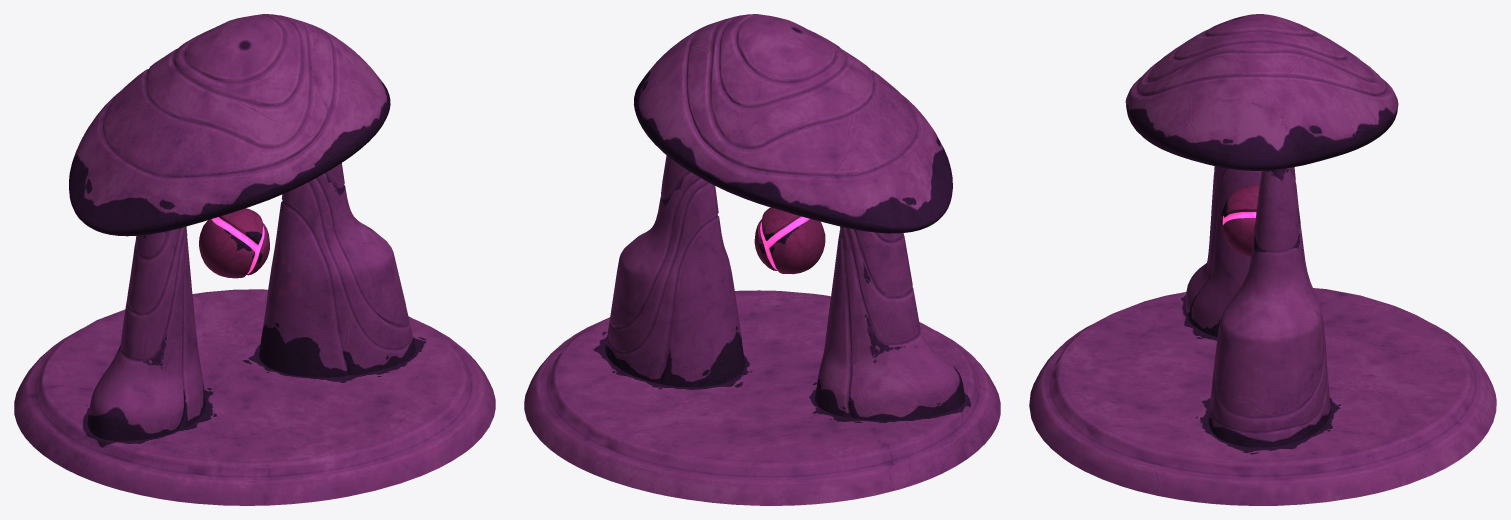
File: sky_shrine_a_chaos.glb
The picture shows the model from 3 angles, left to right: view 1: azimuth 30°, elevation 25°; view 2: azimuth 150°, elevation 25°; view 3: azimuth 270°, elevation 25°; orthographic projection.
Parts seen in each view (by area): view 1: shrine_a; view 2: shrine_a; view 3: shrine_a.
Part boxes in pixels (x1,y1,x2,y2): shrine_a: (14, 14, 495, 505); shrine_a: (524, 14, 1000, 505); shrine_a: (1029, 14, 1496, 505).
Size of the model in its own units: 2.38 by 2.09 by 2.3.
Materials: 1 (1 with a texture image).
